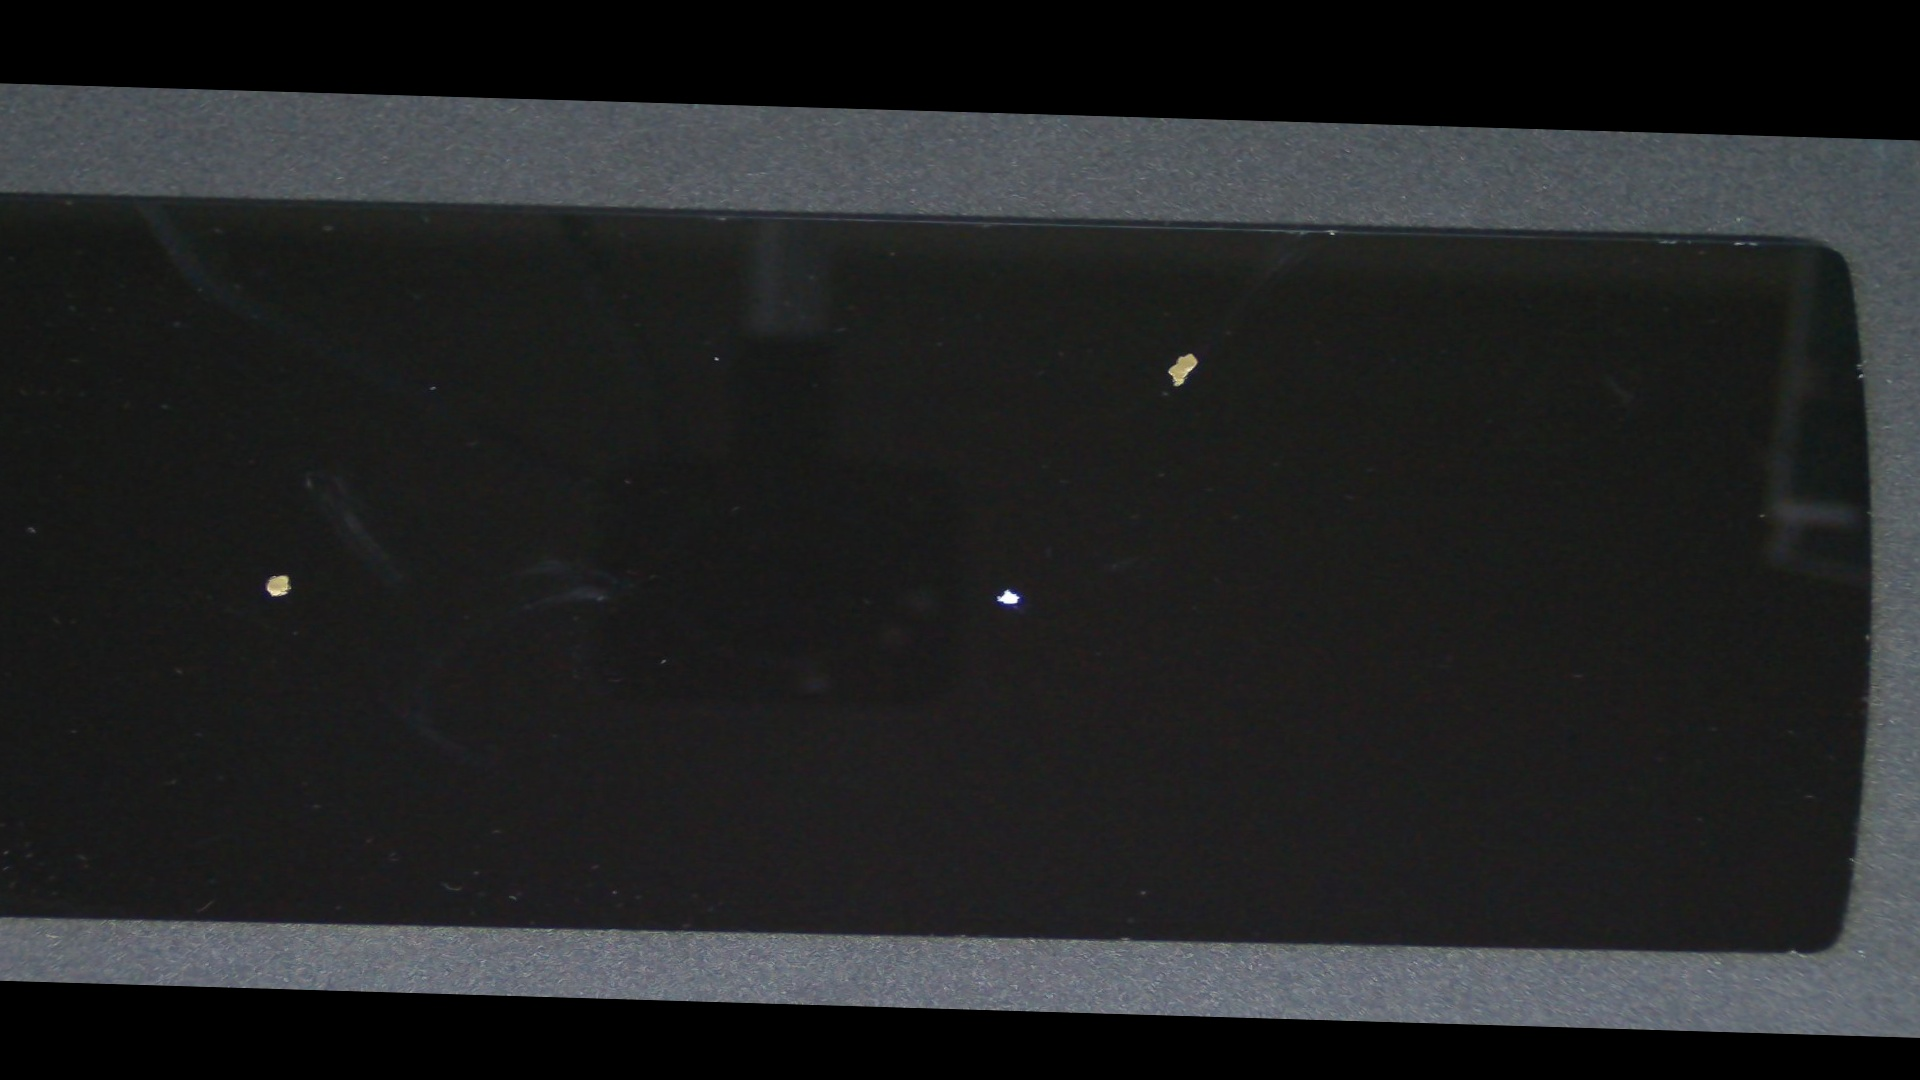oil: (377, 332, 1639, 844), (475, 214, 1905, 491), (16, 324, 558, 823)
